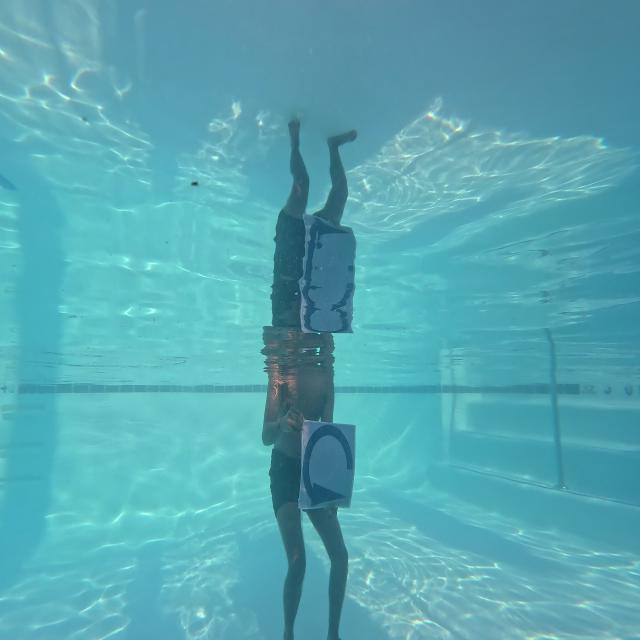blue_side: (300, 422, 363, 514)
